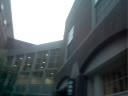window: (8, 53, 59, 69), (96, 0, 114, 23), (67, 29, 75, 53)
